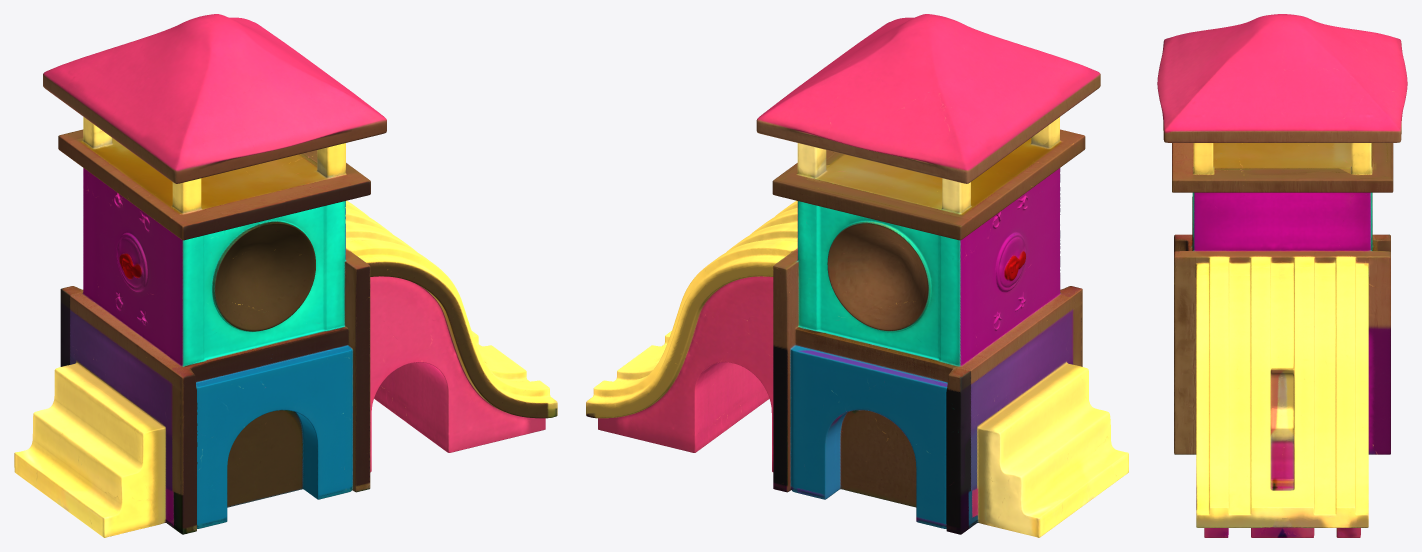
File: Patio-de-juegos.glb
3 views of the same model, side by side, from view 1: azimuth 30°, elevation 25°; view 2: azimuth 150°, elevation 25°; view 3: azimuth 270°, elevation 25° (orthographic). The views are drawn at different scales.
Parts seen in each view (by area): view 1: Mesh_0.001; view 2: Mesh_0.001; view 3: Mesh_0.001.
Part boxes in pixels (x1,y1,x2,y2): Mesh_0.001: (14,14,557,537); Mesh_0.001: (586,14,1128,537); Mesh_0.001: (1157,14,1407,537).
Size of the model in its own units: 3.16 by 3 by 1.72.
1 material, 1 textured.
